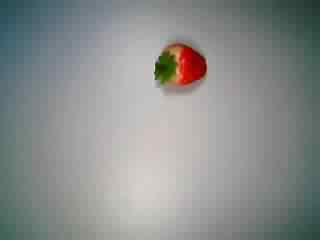strawberry: (148, 36, 210, 100)
